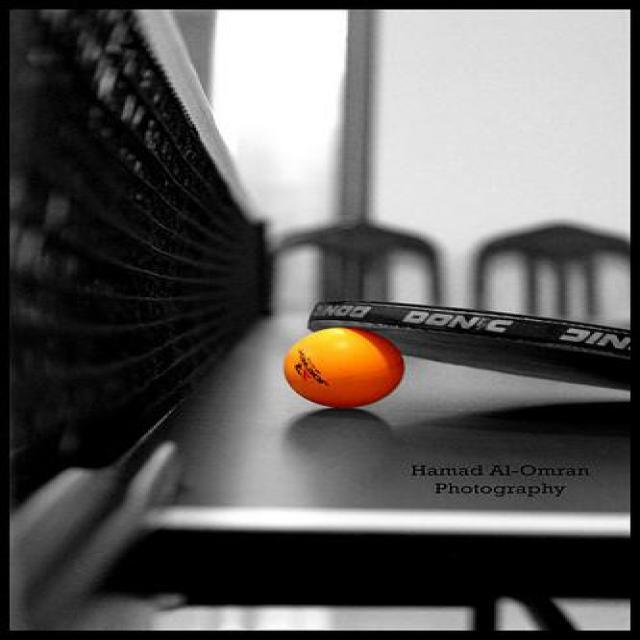ping-pong-ball: (284, 328, 406, 410)
